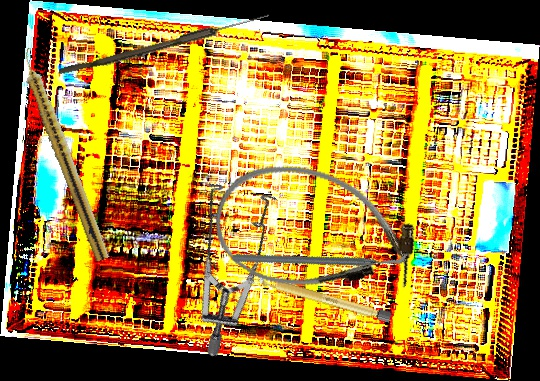Cannula: (201, 148, 430, 316)
Chopper: (230, 185, 412, 329)
Handpiece: (15, 45, 115, 263)
Scalpel Handle: (257, 274, 392, 323)
Speculum: (122, 157, 324, 360)
Surgical Spoon: (58, 9, 271, 80)
